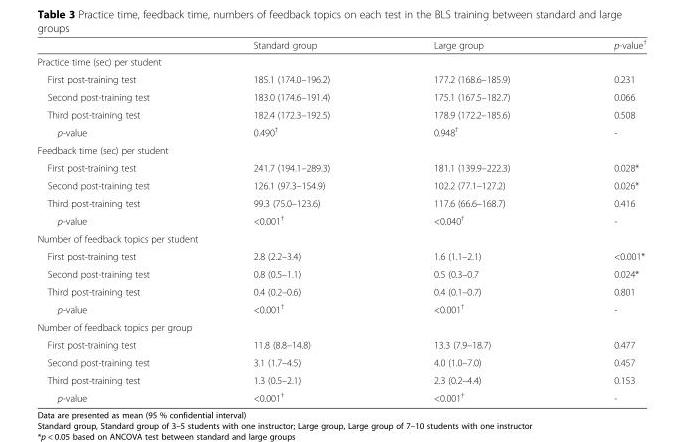table: (36, 37, 645, 403)
table column: (200, 37, 381, 403), (381, 37, 561, 403), (36, 37, 200, 403), (561, 37, 645, 403)
table column header: (36, 37, 645, 52)
table projected row header: (36, 52, 645, 70), (36, 140, 645, 158), (36, 229, 645, 247), (36, 317, 645, 335)
table row: (36, 210, 645, 229), (36, 52, 645, 70), (36, 87, 645, 105), (36, 122, 645, 140), (36, 140, 645, 158), (36, 158, 645, 176), (36, 176, 645, 194), (36, 229, 645, 247), (36, 264, 645, 282), (36, 299, 645, 317), (36, 317, 645, 335), (36, 335, 645, 353), (36, 353, 645, 371), (36, 70, 645, 87), (36, 105, 645, 122), (36, 247, 645, 264), (36, 282, 645, 299), (36, 194, 645, 210), (36, 371, 645, 387), (36, 387, 645, 403), (36, 37, 645, 52)
